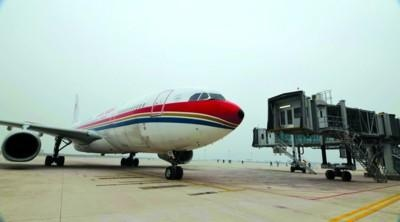airplane: (4, 87, 246, 174)
